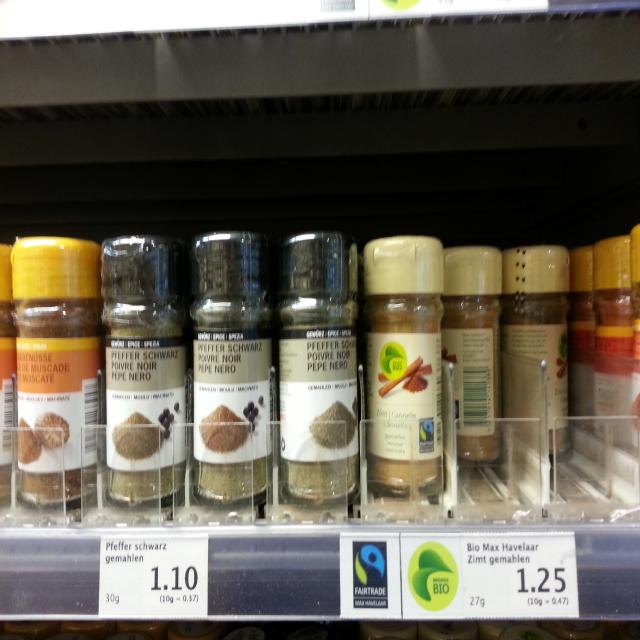Spices: (11, 236, 102, 507), (101, 236, 186, 504), (186, 234, 270, 500), (279, 231, 359, 495), (364, 236, 444, 500), (442, 249, 506, 461), (506, 247, 570, 458)
